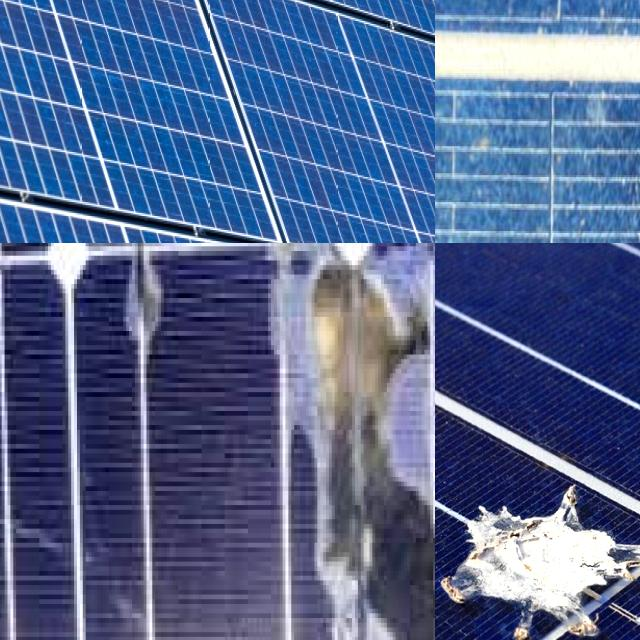bird: (441, 475, 640, 640)
crack: (0, 0, 435, 243)
shadow: (265, 243, 435, 640), (435, 23, 487, 190), (435, 0, 459, 27)
